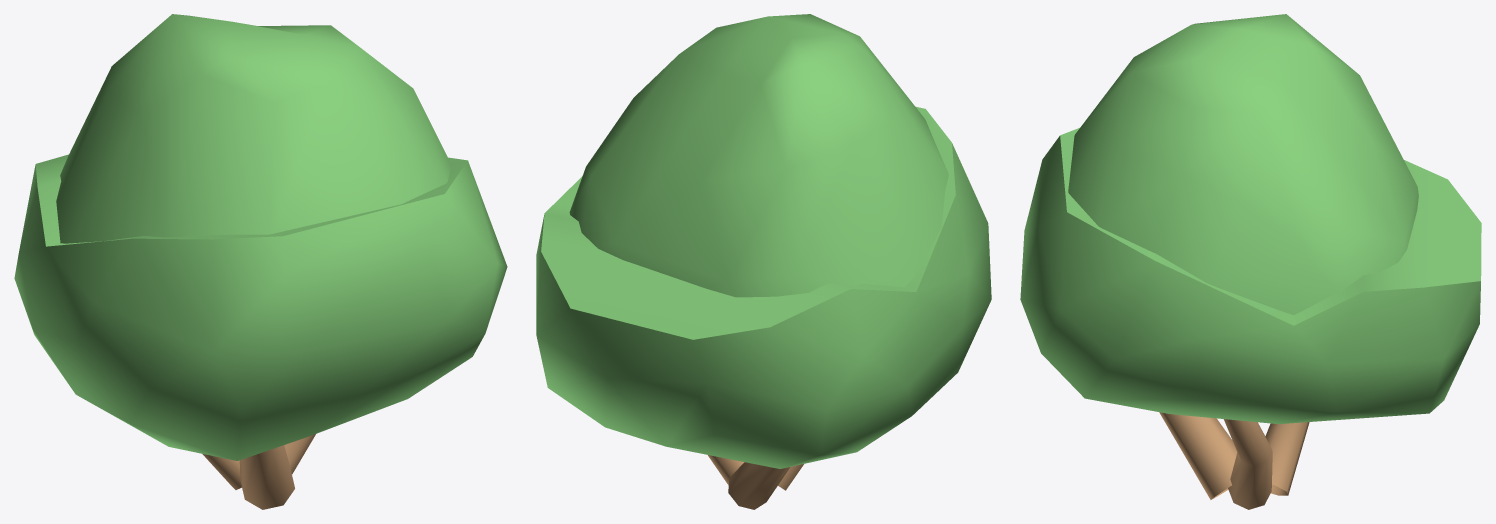
File: Bush_v1.fbx
3 renders of one model, left to right at view 1: azimuth 30°, elevation 25°; view 2: azimuth 150°, elevation 25°; view 3: azimuth 270°, elevation 25°, orthographic. The views are drawn at different scales.
Parts seen in each view (by area): view 1: Volume7_copy002, Sweep_1_Instance_1; view 2: Volume7_copy002, Sweep_1_Instance_1; view 3: Volume7_copy002, Sweep_1_Instance_1.
Part boxes in pixels (x1=…): Volume7_copy002: x1=14, y1=14, x2=507, y2=460; Sweep_1_Instance_1: x1=202, y1=434, x2=315, y2=509; Volume7_copy002: x1=536, y1=14, x2=991, y2=468; Sweep_1_Instance_1: x1=708, y1=455, x2=803, y2=509; Volume7_copy002: x1=1020, y1=14, x2=1481, y2=424; Sweep_1_Instance_1: x1=1159, y1=412, x2=1309, y2=509.
Size of the model in its own units: 215 by 253 by 231.
